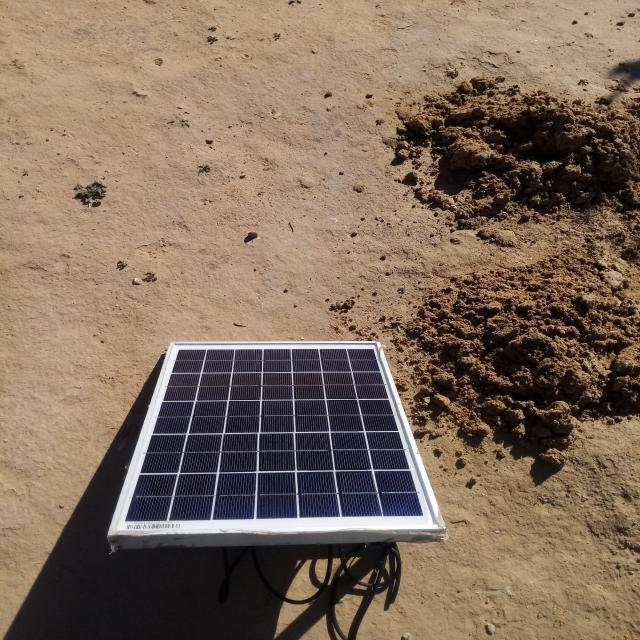no faulty: (108, 341, 445, 534)
